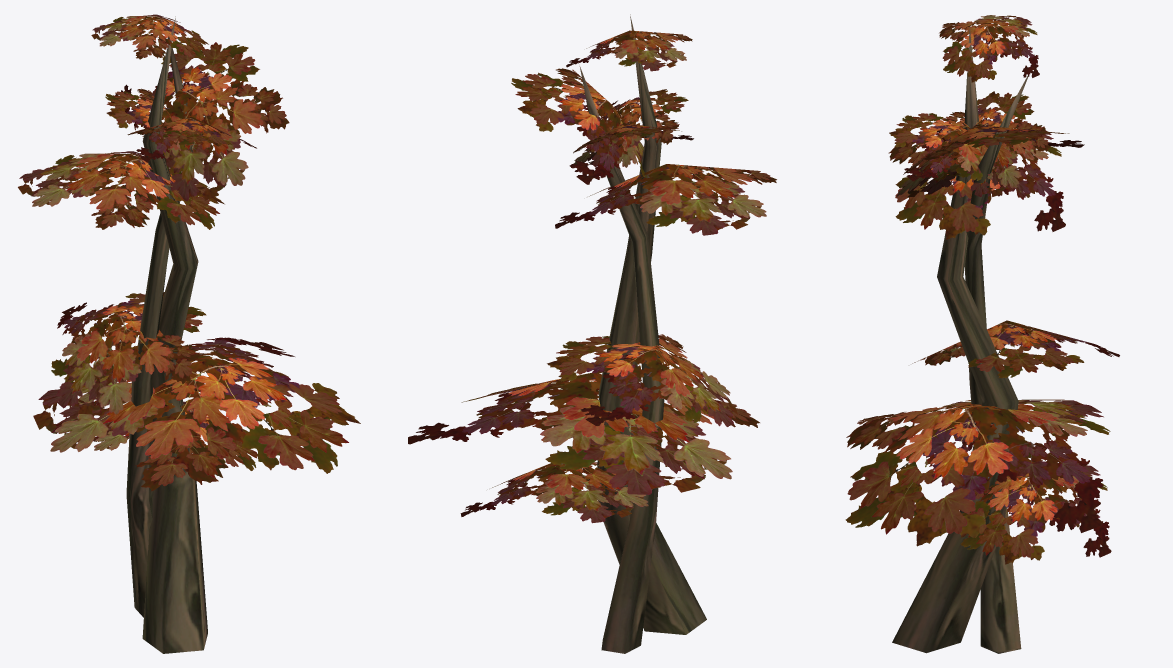
Rendered from SL_shu04.FBX.
The picture shows the model from 3 angles, left to right: view 1: azimuth 30°, elevation 25°; view 2: azimuth 150°, elevation 25°; view 3: azimuth 270°, elevation 25°; orthographic projection. The views are drawn at different scales.
Parts seen in each view (by area): view 1: 对象312, Cylinder24, 对象314, 对象313, 对象316, Cylinder25, 对象318, 对象315, 对象317, 对象319; view 2: 对象312, Cylinder24, Cylinder25, 对象313, 对象316, 对象314, 对象319, 对象318, 对象317, 对象315; view 3: 对象312, Cylinder24, 对象319, 对象316, Cylinder25, 对象318, 对象313, 对象315, 对象317, 对象314.
Boxes of the visible parts, left/top/right/bottom form: 对象312: left=33, top=337, right=360, bottom=491; Cylinder24: left=142, top=16, right=207, bottom=653; 对象314: left=111, top=42, right=289, bottom=201; 对象313: left=51, top=292, right=206, bottom=414; 对象316: left=18, top=151, right=224, bottom=229; Cylinder25: left=126, top=36, right=193, bottom=617; 对象318: left=91, top=14, right=208, bottom=59; 对象315: left=105, top=88, right=193, bottom=162; 对象317: left=127, top=117, right=256, bottom=148; 对象319: left=93, top=401, right=257, bottom=470; 对象312: left=408, top=373, right=759, bottom=494; Cylinder24: left=597, top=14, right=706, bottom=634; Cylinder25: left=579, top=66, right=664, bottom=653; 对象313: left=547, top=334, right=737, bottom=426; 对象316: left=555, top=164, right=776, bottom=235; 对象314: left=511, top=68, right=647, bottom=184; 对象319: left=460, top=462, right=648, bottom=523; 对象318: left=566, top=30, right=692, bottom=71; 对象317: left=590, top=89, right=688, bottom=169; 对象315: left=573, top=123, right=693, bottom=166; 对象312: left=845, top=399, right=1110, bottom=546; Cylinder24: left=892, top=27, right=1018, bottom=653; 对象319: left=960, top=460, right=1111, bottom=564; 对象316: left=888, top=123, right=1065, bottom=239; Cylinder25: left=964, top=76, right=1028, bottom=653; 对象318: left=939, top=15, right=1039, bottom=82; 对象313: left=912, top=320, right=1119, bottom=378; 对象315: left=937, top=91, right=1050, bottom=196; 对象317: left=889, top=111, right=1007, bottom=181; 对象314: left=896, top=125, right=1084, bottom=197.
Bounding box in the file's own units: 190 × 327 × 163.
